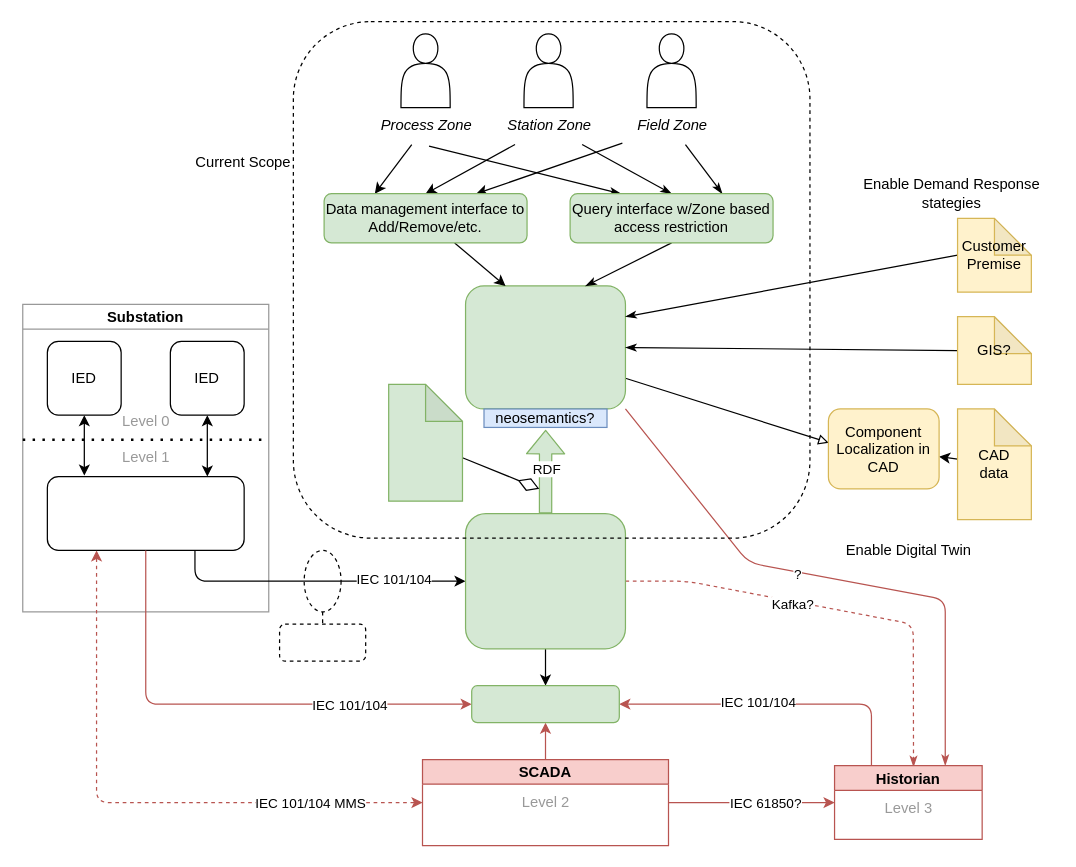
The diagram is 1076 pixels wide and 867 high, and some of its shapes have lost their labels. Here are the shapes that lost their labels. From the top down, the centre of each, then its label:
point (544, 347): Data Catalog w/ Knowledge Graph
point (424, 442): Additional Data?
point (145, 512): PLC
point (544, 580): IEC 104 -> IEC 61850 mapping ( IEC 61850-80-1 ??)
point (322, 642): Clustering?
point (544, 703): Kafka Broker
